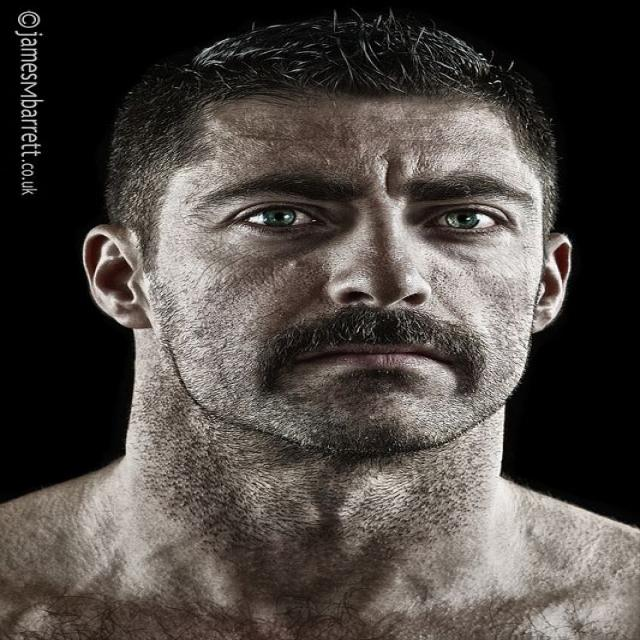earlobe: (82, 225, 153, 329), (531, 233, 572, 332)
